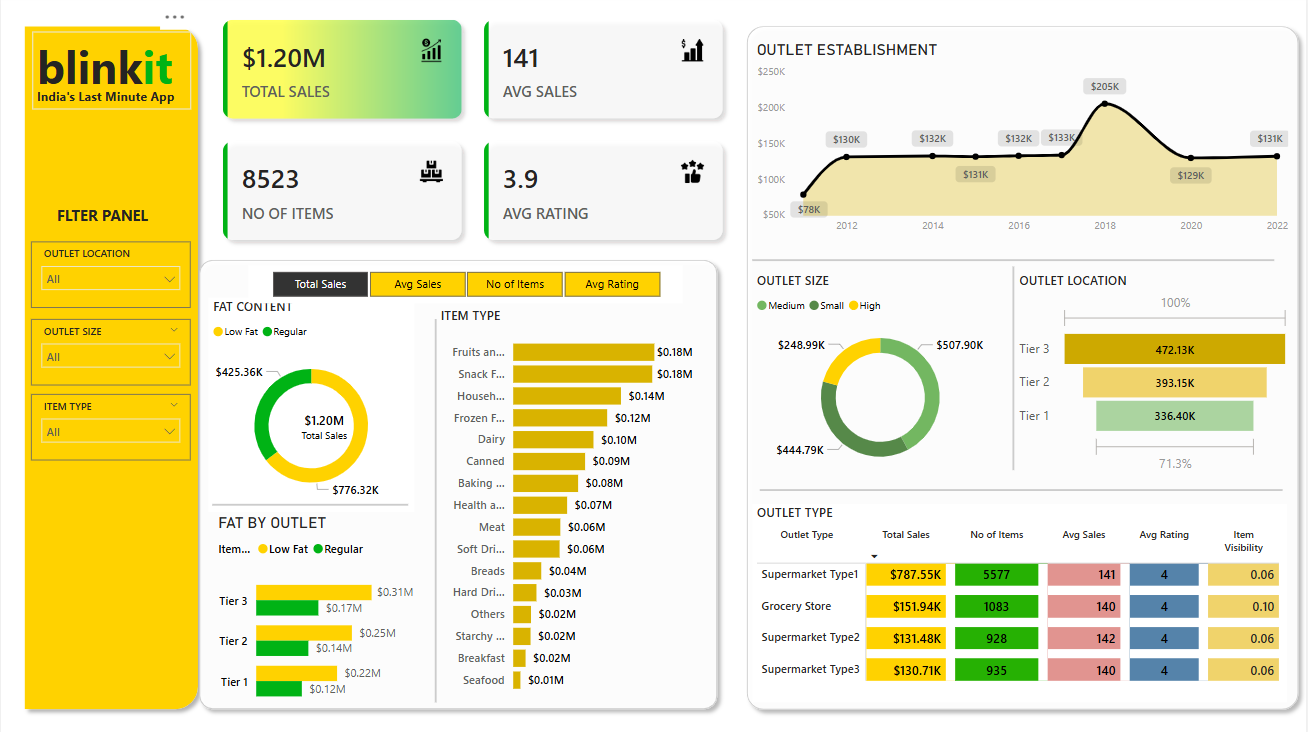

What the dashboard file says about the page in this screenshot:
{"tool":"powerbi","page":{"name":"Page 1","canvas":[1400,800],"ordinal":0},"visuals":[{"type":"shape","box":[16.5,25.5,204.1,750.4],"z":0},{"type":"textbox","box":[33,40.5,171.1,82.5],"z":1000},{"type":"textbox","box":[33,94.6,171.1,28.5],"z":2000},{"type":"cardVisual","fields":{"Data":["BlinkIT Grocery Data.Total Sales","BlinkIT Grocery Data.Avg Sales","BlinkIT Grocery Data.No of Items","BlinkIT Grocery Data.Avg Rating"]},"box":[220.6,10.5,570.3,270.2],"z":3000},{"type":"shape","box":[204.1,276.2,573.3,499.8],"z":4000},{"type":"donutChart","title":"FAT CONTENT","fields":{"Y":["BlinkIT Grocery Data.Total Sales"],"Category":["BlinkIT Grocery Data.Item Fat Content"]},"box":[222.1,325.7,220.6,229.6],"z":5000},{"type":"slicer","fields":{"Values":["Metrics.Metrics"]},"box":[265.7,291.2,465.3,40.5],"z":6000},{"type":"cardVisual","fields":{"Data":["BlinkIT Grocery Data.Total Sales"]},"box":[292.7,429.2,109.6,69],"z":7000},{"type":"clusteredBarChart","title":"FAT BY OUTLET","fields":{"Y":["BlinkIT Grocery Data.Total Sales"],"Category":["BlinkIT Grocery Data.Outlet Location Type"],"Series":["BlinkIT Grocery Data.Item Fat Content"]},"box":[227.2,556.3,219.9,221.3],"z":8000},{"type":"shape","box":[226.6,540.3,210.1,15],"z":9000},{"type":"shape","box":[450.3,348.2,31.5,411.2],"z":10000},{"type":"barChart","title":"ITEM TYPE","fields":{"Y":["BlinkIT Grocery Data.Total Sales"],"Category":["BlinkIT Grocery Data.Item Type"]},"box":[466.8,334.7,280.7,424.7],"z":11000},{"type":"shape","box":[790.9,25.1,609.4,751.1],"z":12000},{"type":"lineChart","title":"OUTLET ESTABLISHMENT","fields":{"Y":["BlinkIT Grocery Data.Total Sales"],"Category":["BlinkIT Grocery Data.Outlet Establishment Year"]},"box":[805.7,50.2,579.9,215.4],"z":13000},{"type":"shape","box":[806,280.7,559.8,10.5],"z":14000},{"type":"donutChart","title":"OUTLET SIZE","fields":{"Y":["BlinkIT Grocery Data.Total Sales"],"Category":["BlinkIT Grocery Data.Outlet Size"]},"box":[806,297.2,275,225],"z":15000},{"type":"shape","box":[1072.7,292.2,26.6,218.4],"z":16000},{"type":"funnel","title":"OUTLET LOCATION","fields":{"Y":["Sum(BlinkIT Grocery Data.Sales)"],"Category":["BlinkIT Grocery Data.Outlet Location Type"]},"box":[1086.6,297.2,300.2,220.6],"z":17000},{"type":"shape","box":[813,526.8,560.7,10.3],"z":18000},{"type":"pivotTable","title":"OUTLET TYPE","fields":{"Rows":["BlinkIT Grocery Data.Outlet Type"],"Values":["BlinkIT Grocery Data.Total Sales","BlinkIT Grocery Data.No of Items","BlinkIT Grocery Data.Avg Sales","BlinkIT Grocery Data.Avg Rating","Avg(BlinkIT Grocery Data.Item Visibility)"]},"box":[805.7,547.4,574,212.5],"z":19000},{"type":"slicer","fields":{"Values":["BlinkIT Grocery Data.Outlet Location Type"]},"box":[32.5,265.6,171.2,70.8],"z":20000},{"type":"slicer","fields":{"Values":["BlinkIT Grocery Data.Outlet Size"]},"box":[32.5,348.2,171.2,70.8],"z":20001},{"type":"slicer","fields":{"Values":["BlinkIT Grocery Data.Item Type"]},"box":[32.5,429.4,171.2,70.8],"z":20002},{"type":"textbox","box":[54.6,221.3,128.4,44.3],"z":20003}]}

Visuals, with their boxes in screenshot pixels (x1, y1, x2, y2), scaled from the page's 1400x800 canvas onto the 1308x732 screenshot:
shape: box(15, 23, 206, 710)
textbox: box(31, 37, 191, 113)
textbox: box(31, 87, 191, 113)
cardVisual - BlinkIT Grocery Data.Total Sales x BlinkIT Grocery Data.Avg Sales: box(206, 10, 739, 257)
shape: box(191, 253, 726, 710)
"FAT CONTENT" donutChart: box(208, 298, 414, 508)
slicer - Metrics.Metrics: box(248, 266, 683, 304)
cardVisual - BlinkIT Grocery Data.Total Sales: box(273, 393, 376, 456)
"FAT BY OUTLET" clusteredBarChart: box(212, 509, 418, 712)
shape: box(212, 494, 408, 508)
shape: box(421, 319, 450, 695)
"ITEM TYPE" barChart: box(436, 306, 698, 695)
shape: box(739, 23, 1307, 710)
"OUTLET ESTABLISHMENT" lineChart: box(753, 46, 1295, 243)
shape: box(753, 257, 1276, 266)
"OUTLET SIZE" donutChart: box(753, 272, 1010, 478)
shape: box(1002, 267, 1027, 467)
"OUTLET LOCATION" funnel: box(1015, 272, 1296, 474)
shape: box(760, 482, 1283, 491)
"OUTLET TYPE" pivotTable: box(753, 501, 1289, 695)
slicer - BlinkIT Grocery Data.Outlet Location Type: box(30, 243, 190, 308)
slicer - BlinkIT Grocery Data.Outlet Size: box(30, 319, 190, 383)
slicer - BlinkIT Grocery Data.Item Type: box(30, 393, 190, 458)
textbox: box(51, 202, 171, 243)
